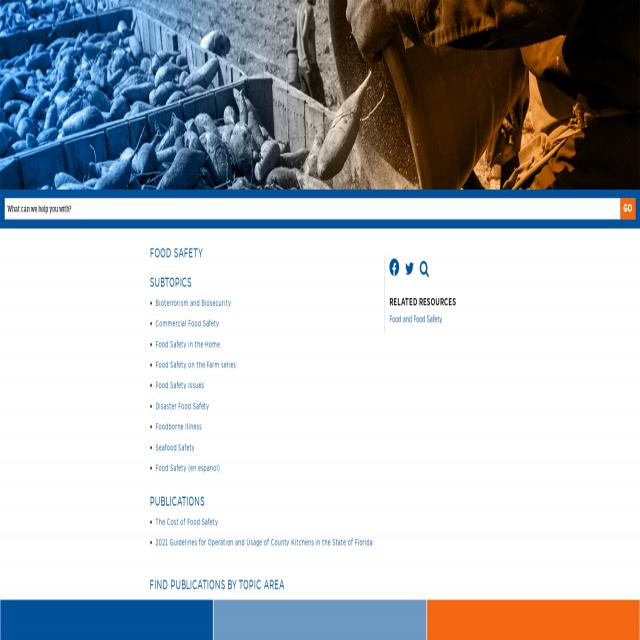button: (426, 599, 639, 640), (0, 599, 213, 640), (213, 599, 426, 640), (620, 199, 636, 219), (417, 260, 432, 280), (403, 260, 417, 277), (389, 259, 399, 277)
field: (5, 198, 621, 220)
